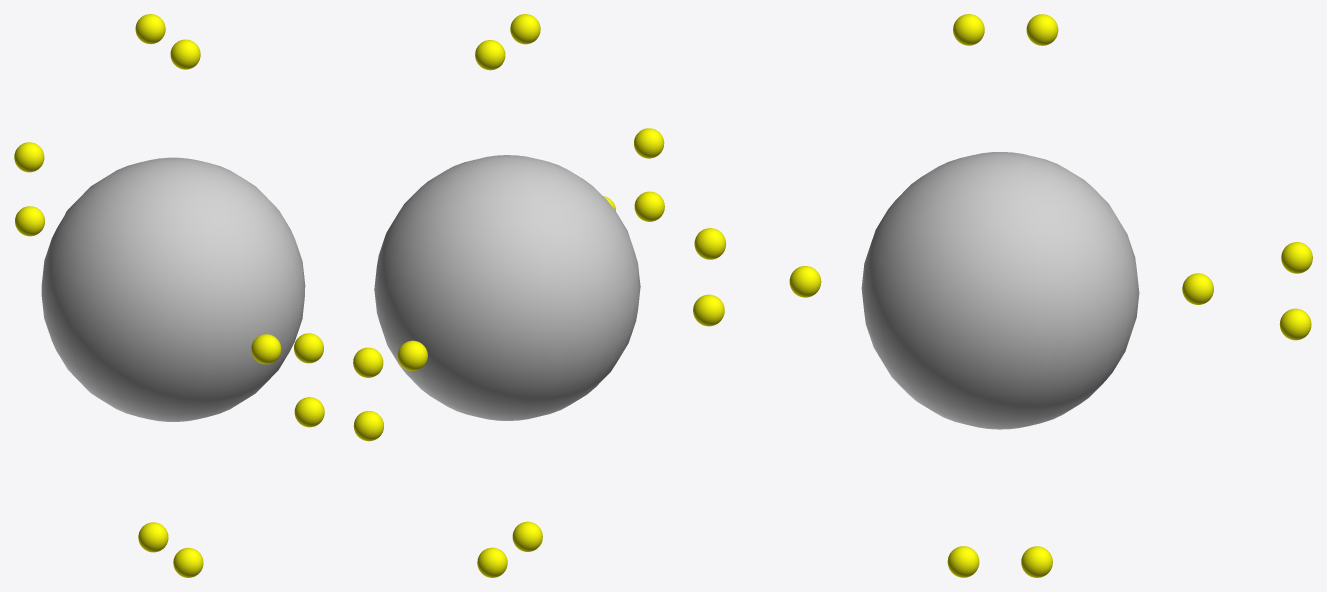
Rendered from Sodium_Positive_Charged.fbx.
3 views of the same model, side by side, from view 1: azimuth 30°, elevation 25°; view 2: azimuth 150°, elevation 25°; view 3: azimuth 270°, elevation 25° (orthographic). The views are drawn at different scales.
Visible parts, largest first — view 1: Sphere, Sphere.008, Sphere.005, Sphere.012, Sphere.009, Sphere.011, Sphere.007, Sphere.010, Sphere.006, Sphere.001; view 2: Sphere, Sphere.010, Sphere.011, Sphere.008, Sphere.004, Sphere.012, Sphere.009, Sphere.007, Sphere.006, Sphere.001; view 3: Sphere, Sphere.011, Sphere.010, Sphere.008, Sphere.004, Sphere.001, Sphere.005, Sphere.012, Sphere.009, Sphere.006, Sphere.007.
Part boxes in pixels (bbox=[...]): Sphere: bbox=[41, 157, 305, 421]; Sphere.008: bbox=[294, 397, 324, 427]; Sphere.005: bbox=[251, 334, 281, 364]; Sphere.012: bbox=[170, 39, 200, 69]; Sphere.009: bbox=[138, 522, 168, 552]; Sphere.011: bbox=[135, 14, 165, 44]; Sphere.007: bbox=[14, 142, 44, 172]; Sphere.010: bbox=[173, 547, 203, 577]; Sphere.006: bbox=[294, 333, 323, 363]; Sphere.001: bbox=[15, 206, 44, 236]; Sphere: bbox=[374, 155, 640, 420]; Sphere.010: bbox=[512, 521, 542, 551]; Sphere.011: bbox=[475, 40, 505, 70]; Sphere.008: bbox=[634, 191, 664, 221]; Sphere.004: bbox=[397, 340, 427, 370]; Sphere.012: bbox=[510, 14, 540, 44]; Sphere.009: bbox=[477, 547, 507, 577]; Sphere.007: bbox=[353, 347, 383, 377]; Sphere.006: bbox=[634, 128, 664, 158]; Sphere.001: bbox=[353, 411, 383, 441]; Sphere: bbox=[861, 152, 1139, 429]; Sphere.011: bbox=[1026, 14, 1058, 45]; Sphere.010: bbox=[947, 546, 979, 577]; Sphere.008: bbox=[693, 294, 724, 326]; Sphere.004: bbox=[1182, 273, 1213, 304]; Sphere.001: bbox=[1279, 308, 1311, 340]; Sphere.005: bbox=[789, 266, 821, 297]; Sphere.012: bbox=[953, 14, 984, 45]; Sphere.009: bbox=[1021, 546, 1052, 577]; Sphere.006: bbox=[694, 228, 726, 259]; Sphere.007: bbox=[1281, 242, 1312, 273].
Bounding box in the file's own units: 140 × 312 × 312.
